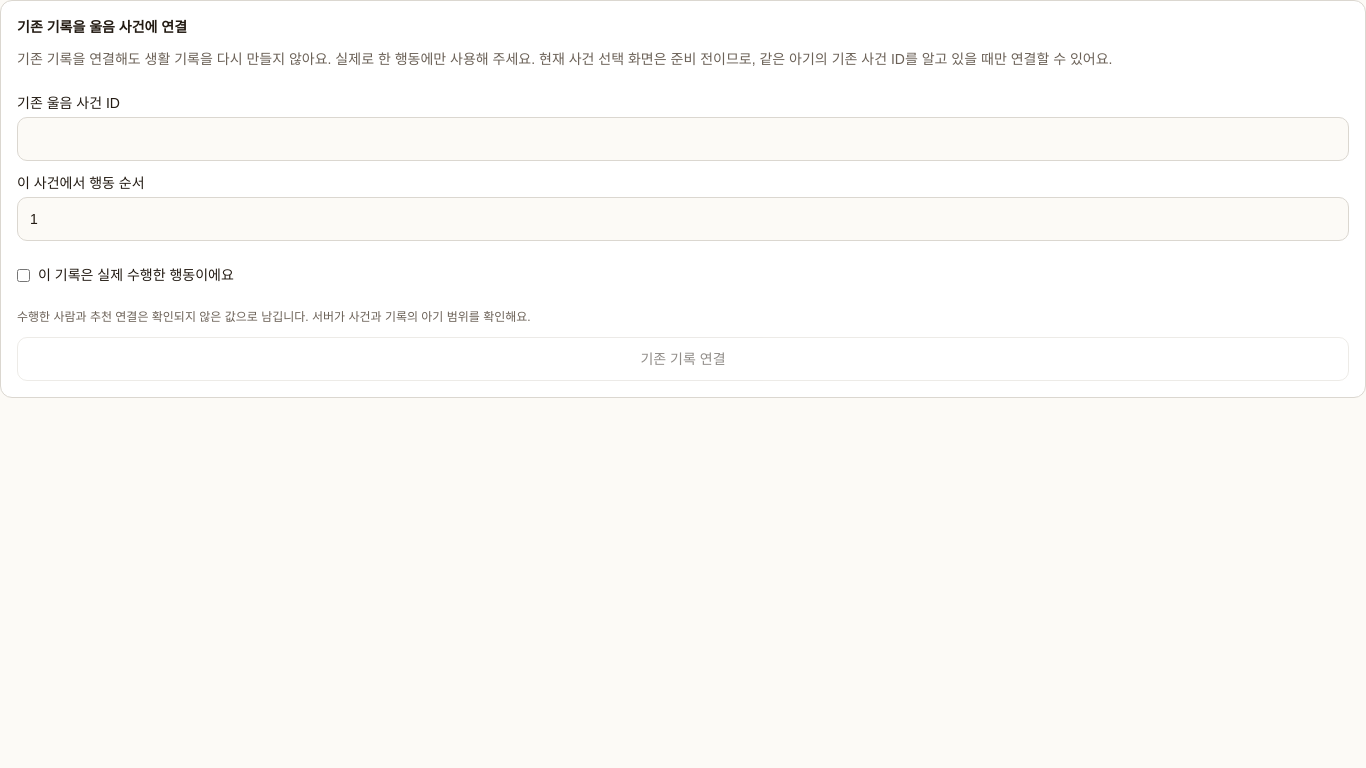
Test: A-04 ② existing record linkage › requires an existing episode ID and performed confirmation, then retries with the same request
This screenshot has width=1366, height=768.
expect the button "기존 기록 연결" is disabled: met, box [17,337,1349,381]
Type "10000000-0000-4000-8000-000000000301" into the field labelled "기존 울음 사건 ID" at x=683, y=139, box [17,117,1349,161]
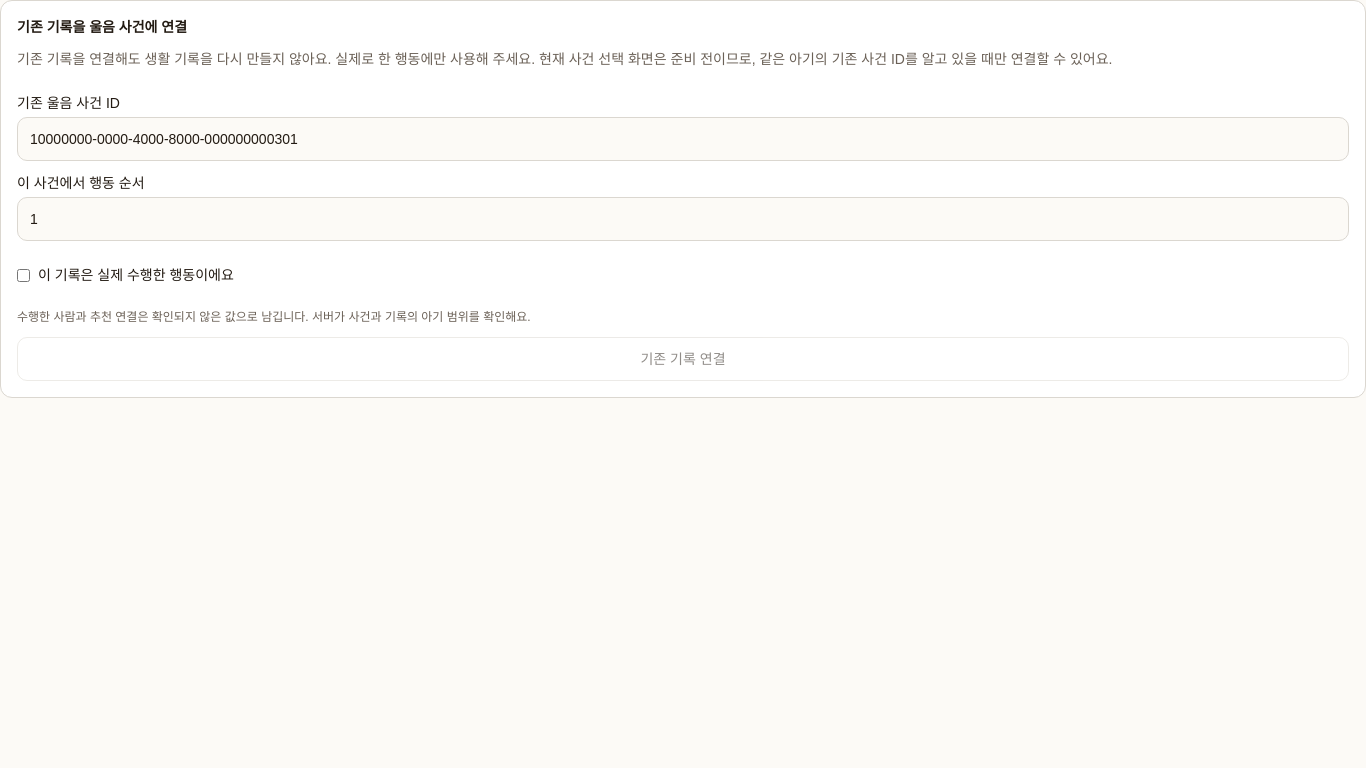
expect the button "기존 기록 연결" is disabled: met, box [17,337,1349,381]
Click the checkbox labelled "이 기록은 실제 수행한 행동이에요" at x=24, y=275, box [17,268,30,282]
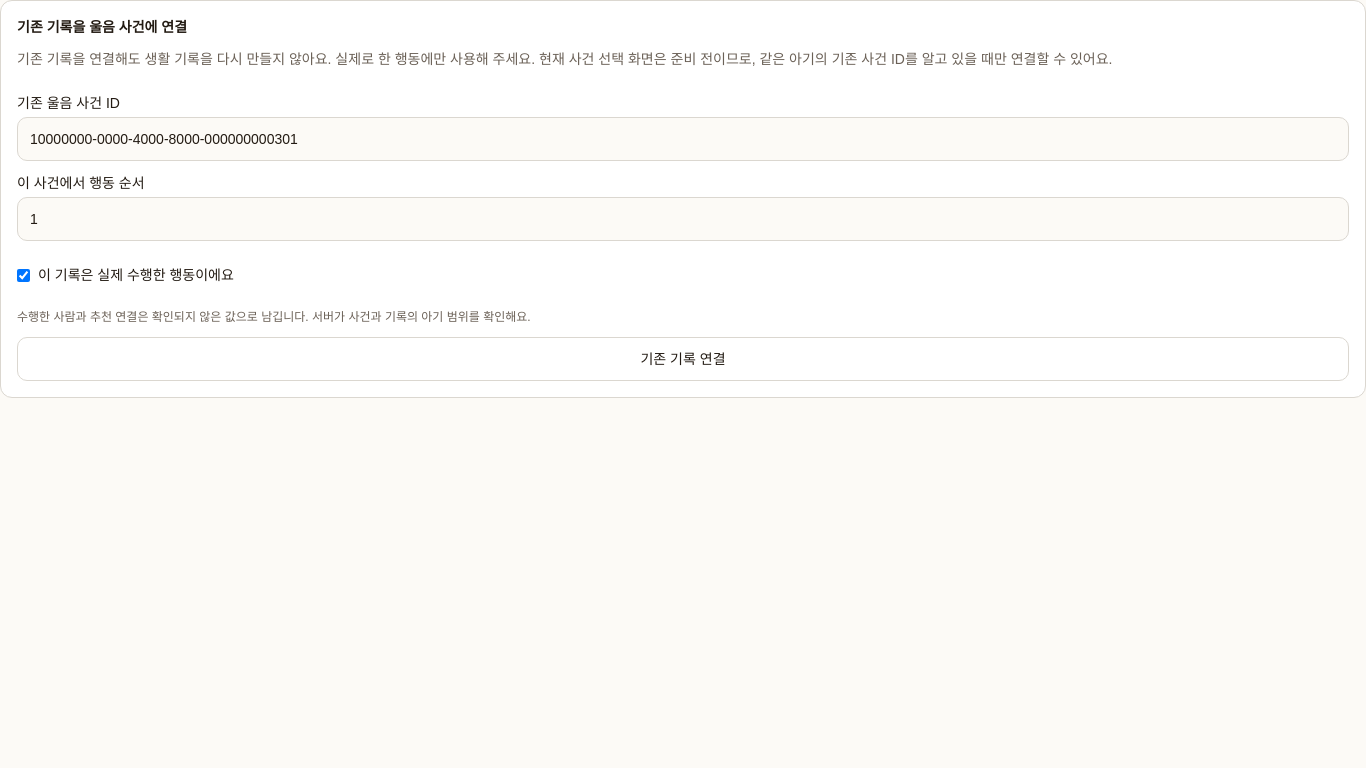
expect the checkbox labelled "이 기록은 실제 수행한 행동이에요" is checked: met, box [17,268,30,282]
expect the button "기존 기록 연결" is enabled: met
Click the button "기존 기록 연결" at x=683, y=359, box [17,337,1349,381]
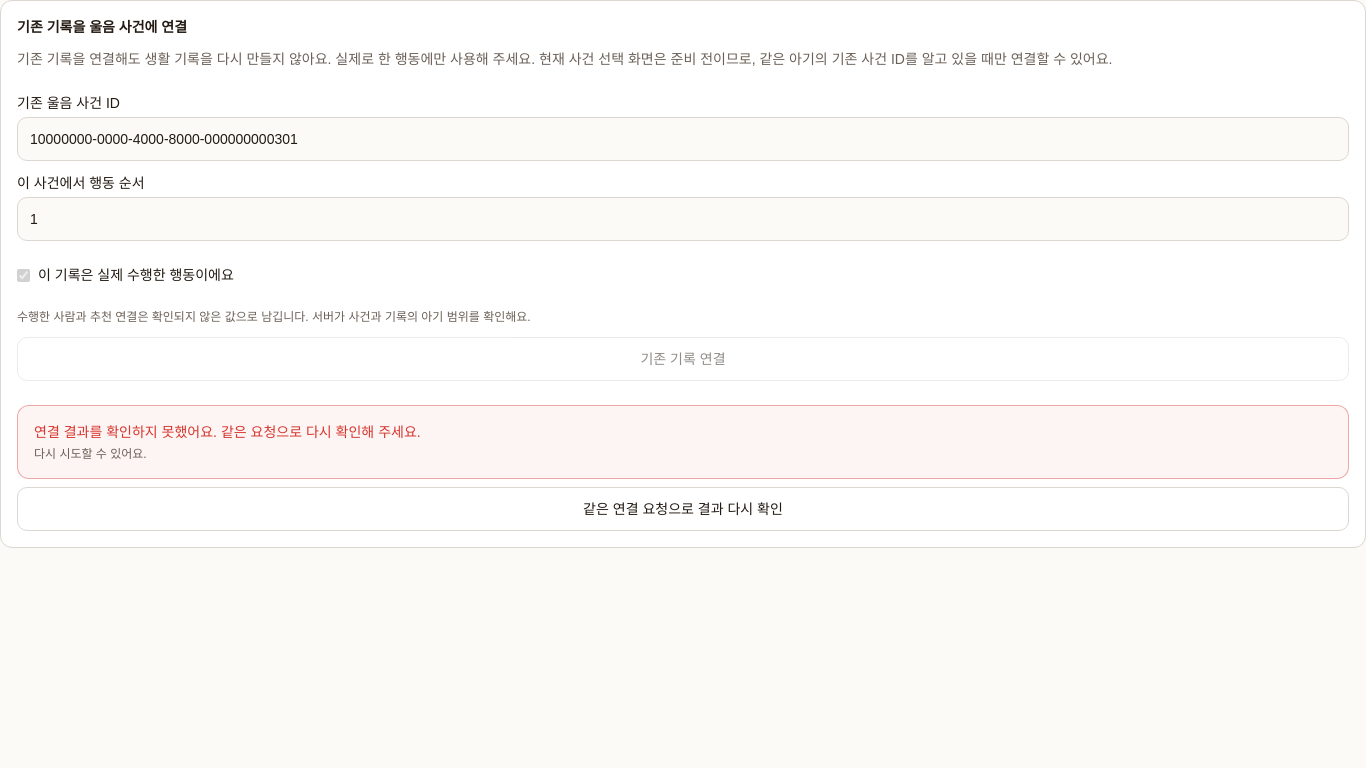
expect the button "같은 연결 요청으로 결과 다시 확인" is shown: met
Click the button "같은 연결 요청으로 결과 다시 확인" at x=683, y=509, box [17,487,1349,531]
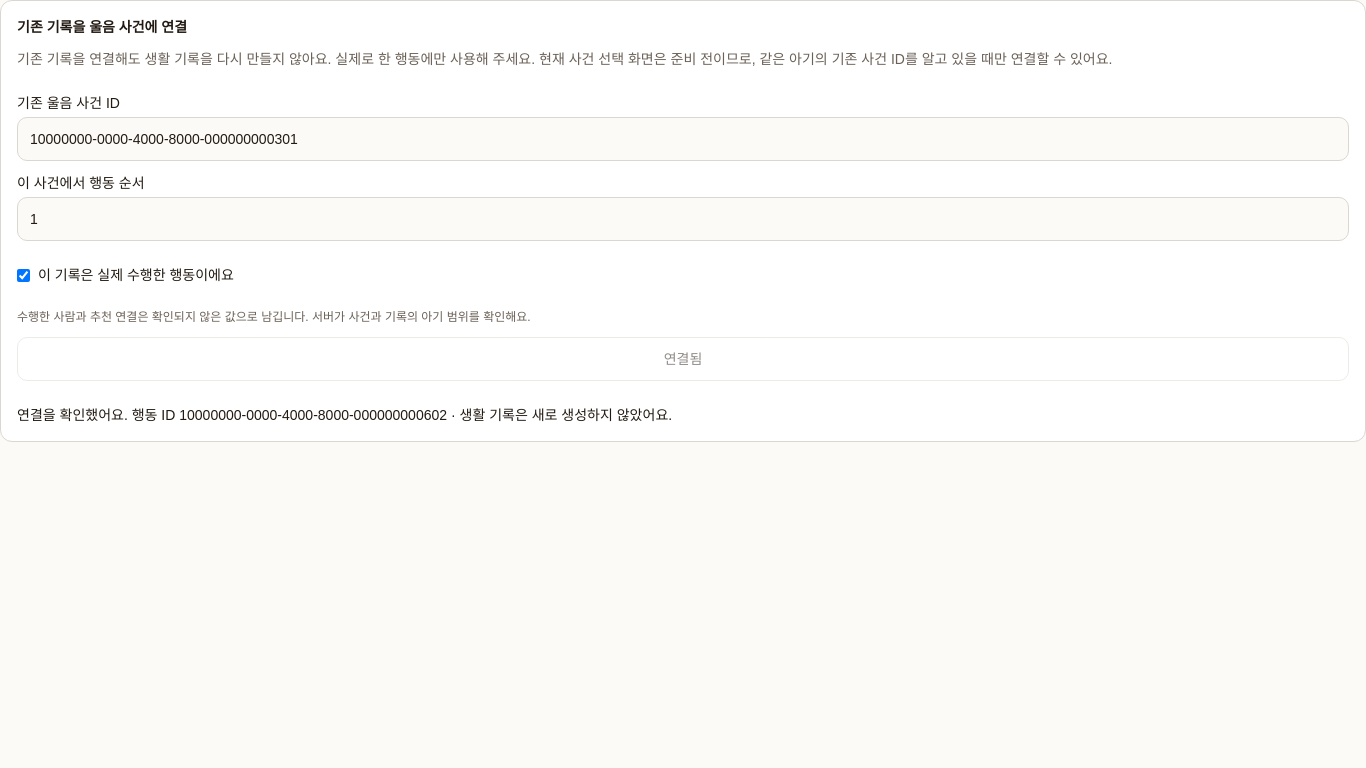
expect the text "생활 기록은 새로 생성하지 않았어요" is shown: met, box [447,407,672,423]
